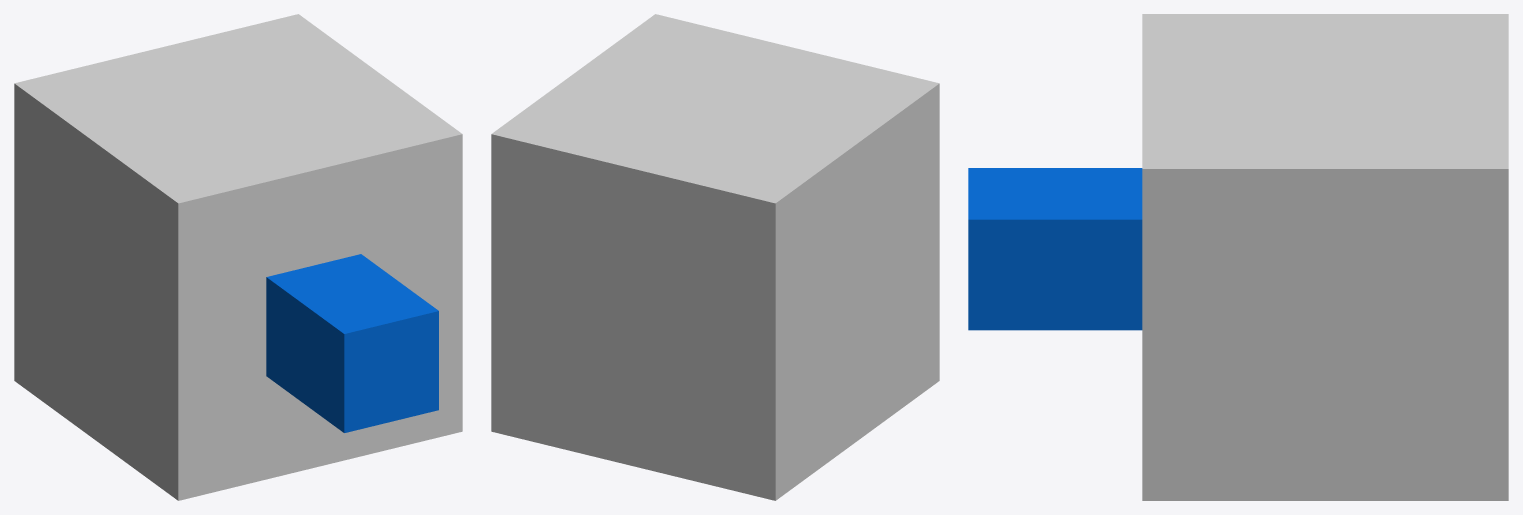
The model's file is qwerk.fbx.
The picture shows the model from 3 angles, left to right: view 1: azimuth 30°, elevation 25°; view 2: azimuth 150°, elevation 25°; view 3: azimuth 270°, elevation 25°; orthographic projection. The views are drawn at different scales.
Parts seen in each view (by area): view 1: Cube.001; view 2: Cube.001; view 3: Cube.001.
Boxes of the visible parts, x1,y1,x2,y2 form: Cube.001: [14, 14, 462, 500]; Cube.001: [491, 14, 939, 500]; Cube.001: [968, 14, 1508, 500].
Bounding box in the file's own units: 200 × 200 × 295.
